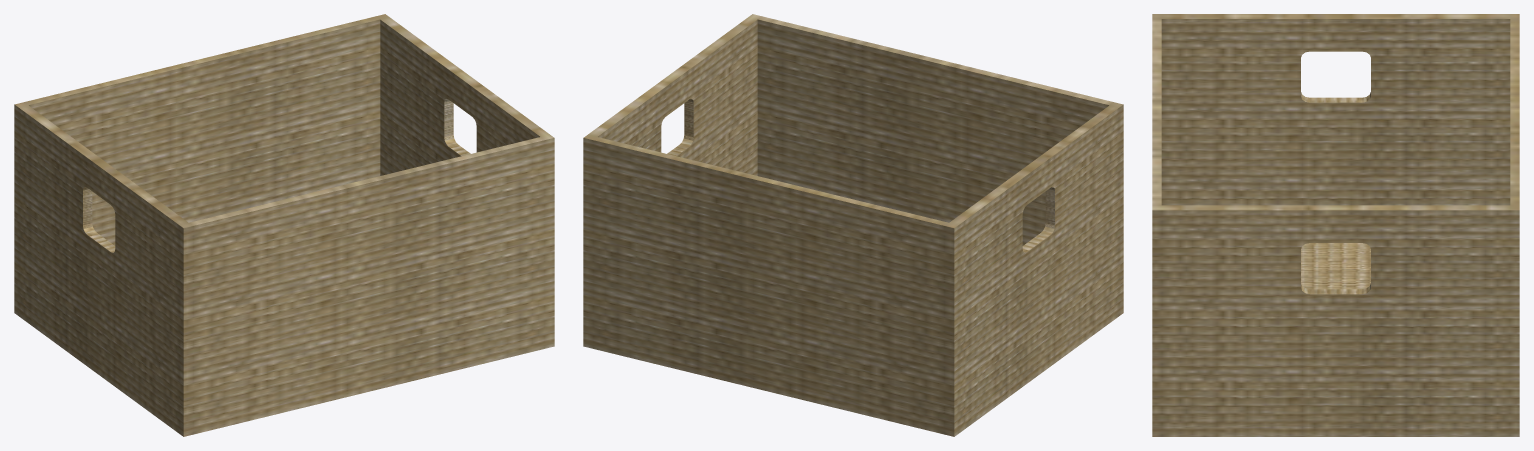
The model's file is WickerBasketTall.fbx.
The picture shows the model from 3 angles, left to right: view 1: azimuth 30°, elevation 25°; view 2: azimuth 150°, elevation 25°; view 3: azimuth 270°, elevation 25°; orthographic projection. The views are drawn at different scales.
Visible parts, largest first — view 1: WickerBasket; view 2: WickerBasket; view 3: WickerBasket.
Boxes of the visible parts, box(x1,y1,x2,y2) form: WickerBasket: box(14, 14, 554, 436); WickerBasket: box(583, 14, 1123, 436); WickerBasket: box(1152, 14, 1519, 436).
Size of the model in its own units: 63.29 by 34.03 by 50.
